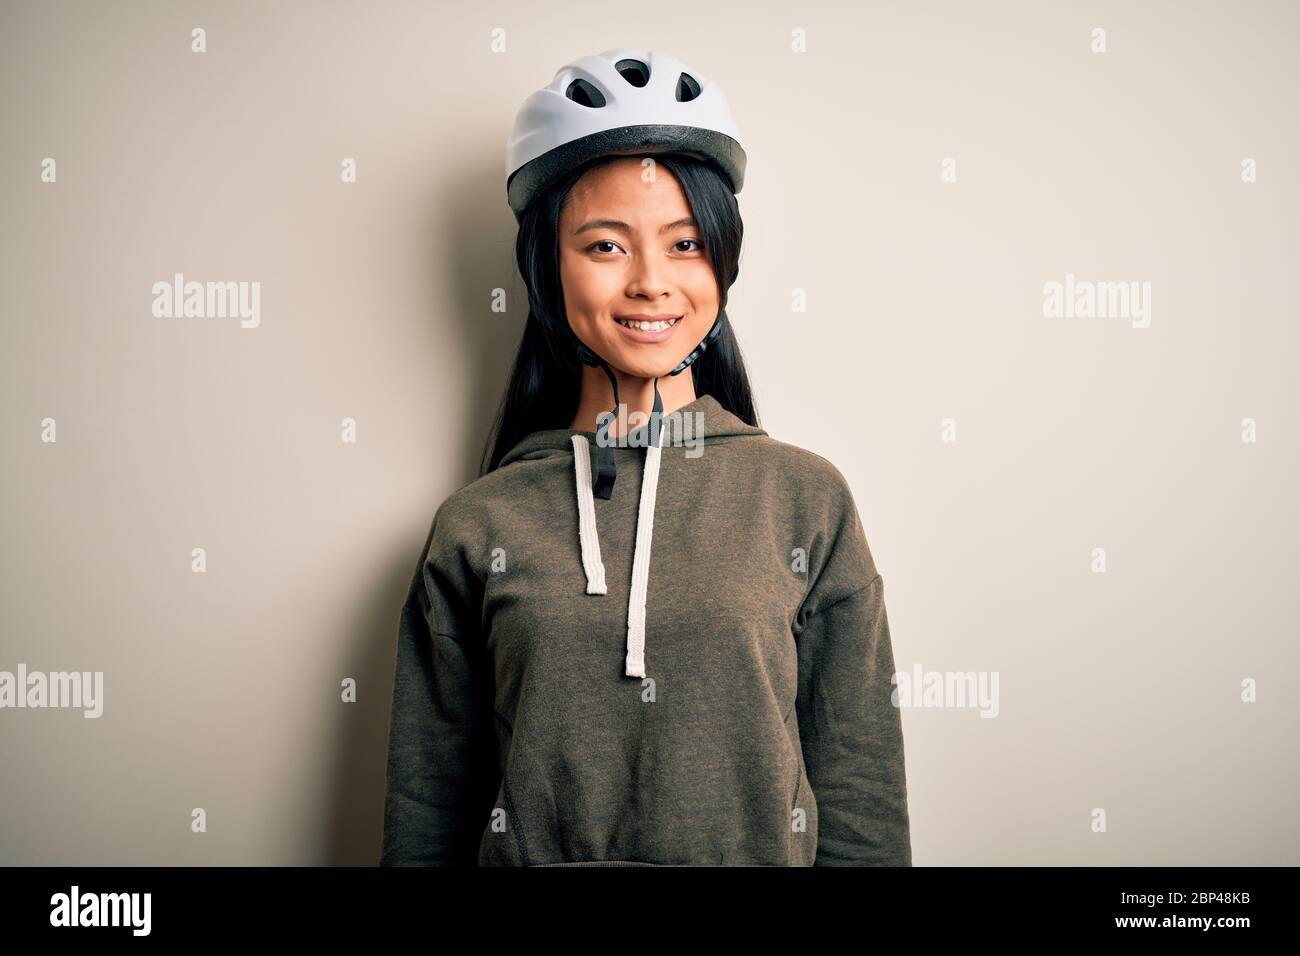helmet: (504, 49, 749, 380)
